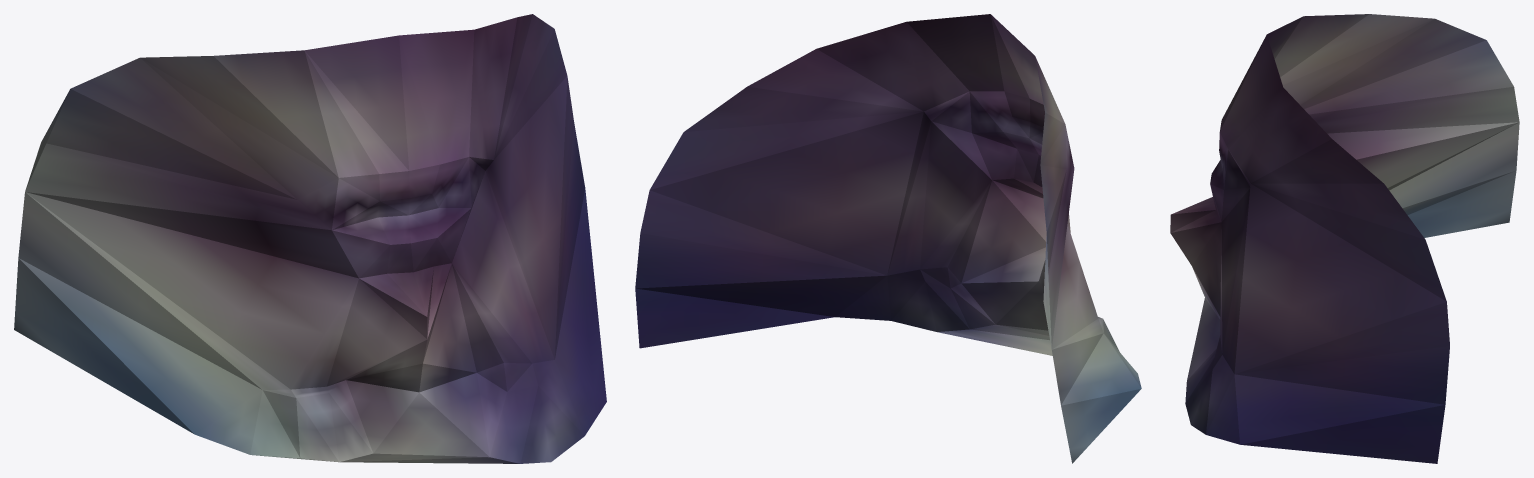
File: fake_28310.obj
3 renders of one model, left to right at view 1: azimuth 30°, elevation 25°; view 2: azimuth 150°, elevation 25°; view 3: azimuth 270°, elevation 25°, orthographic. The views are drawn at different scales.
Size of the model in its own units: 125 by 94 by 85.62.
